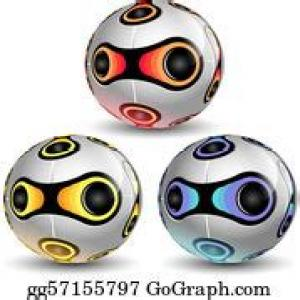Football: (1, 130, 144, 268), (157, 133, 298, 269), (80, 0, 224, 133)
